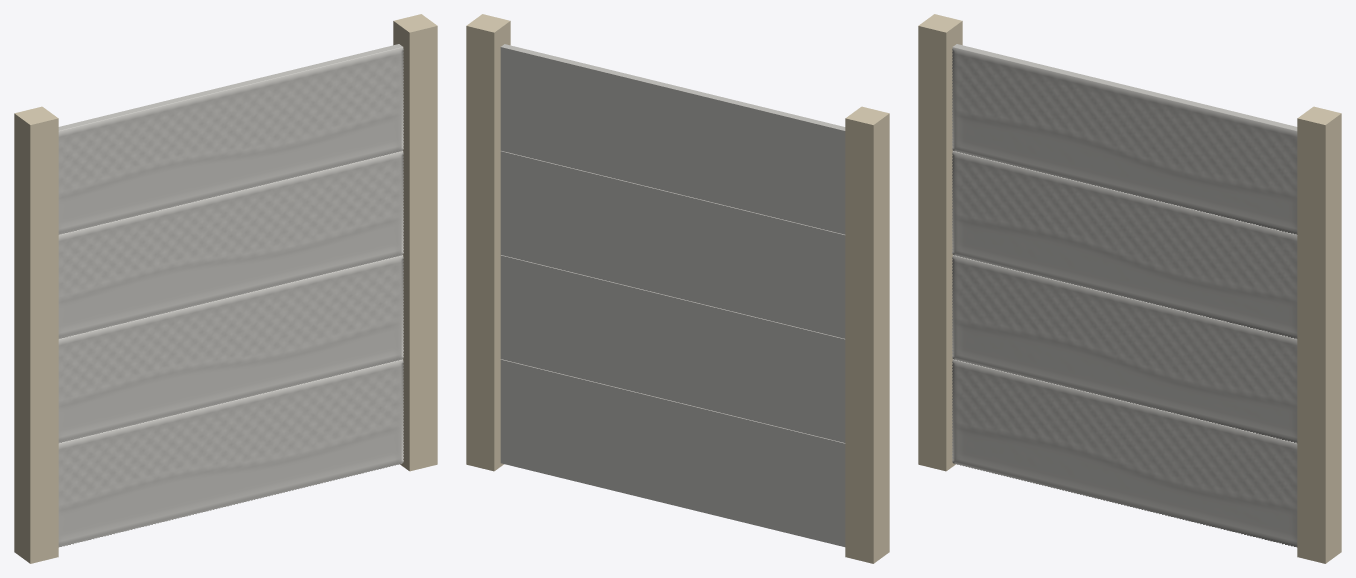
The model's file is terilgan.glb.
The picture shows the model from 3 angles, left to right: view 1: azimuth 30°, elevation 25°; view 2: azimuth 150°, elevation 25°; view 3: azimuth 330°, elevation 25°; orthographic projection.
Visible parts, largest first — view 1: t3, t2, t0, t1, Ustun, Ustun.001; view 2: t3, t1, t2, t0, Ustun, Ustun.001; view 3: t3, t2, t0, t1, Ustun.001, Ustun.
Part boxes in pixels (x1,y1,x2,y2): t3: (58,44,403,234); t2: (58,151,403,338); t0: (58,359,403,547); t1: (58,255,403,443); Ustun: (14,106,58,563); Ustun.001: (393,14,437,471); t3: (500,44,845,234); t1: (500,255,845,442); t2: (500,151,845,338); t0: (500,359,845,546); Ustun: (845,106,889,563); Ustun.001: (466,14,510,471); t3: (952,44,1297,234); t2: (952,151,1297,338); t0: (952,359,1297,547); t1: (952,255,1297,443); Ustun.001: (1297,106,1341,563); Ustun: (918,14,962,471).
Bounding box in the file's own units: 2.32 × 2.39 × 0.16.
